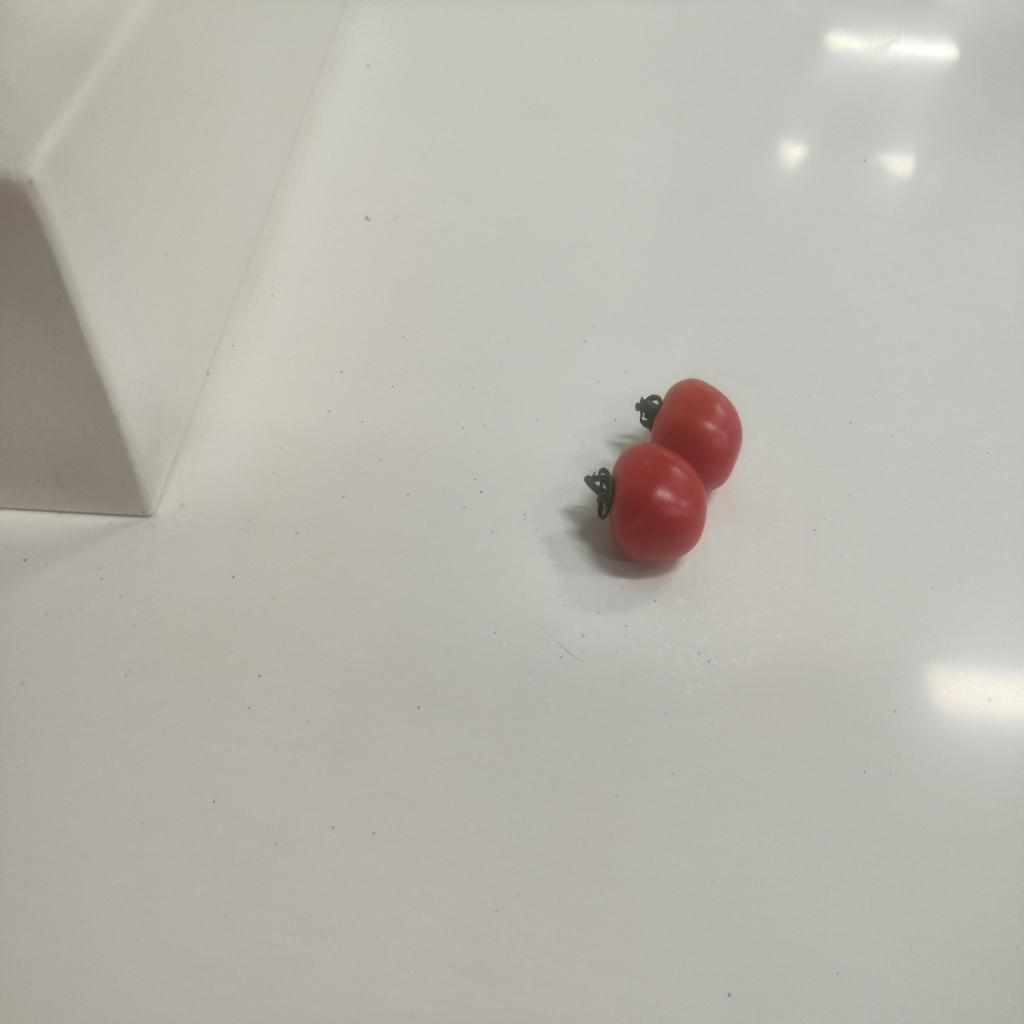tomato: (642, 375, 765, 500), (599, 445, 707, 568)
